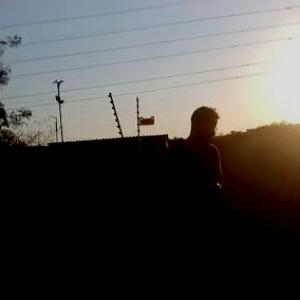follow: (156, 99, 230, 299)
